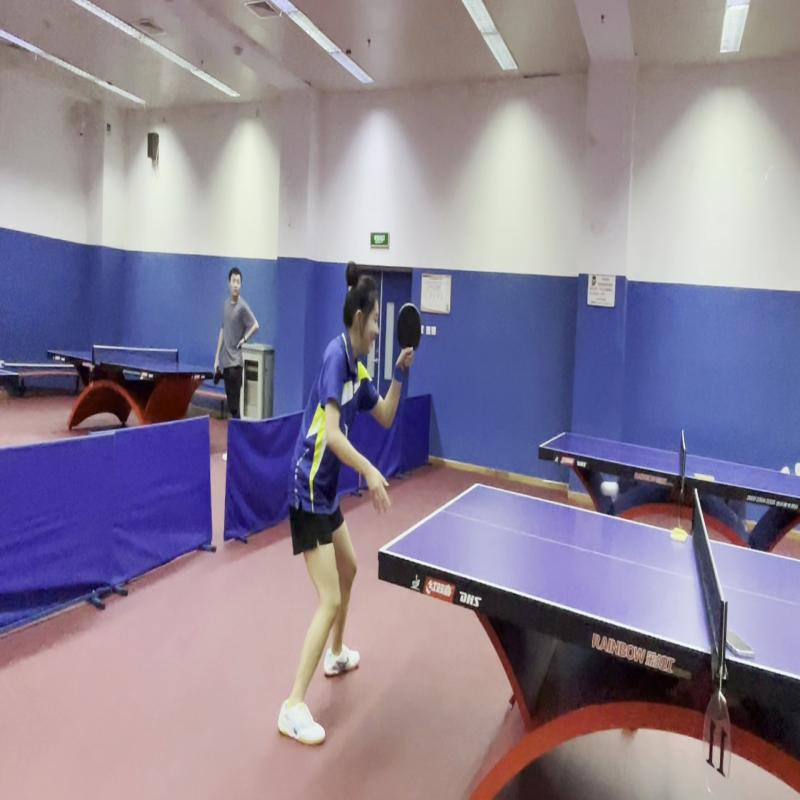bats: (393, 302, 427, 364)
